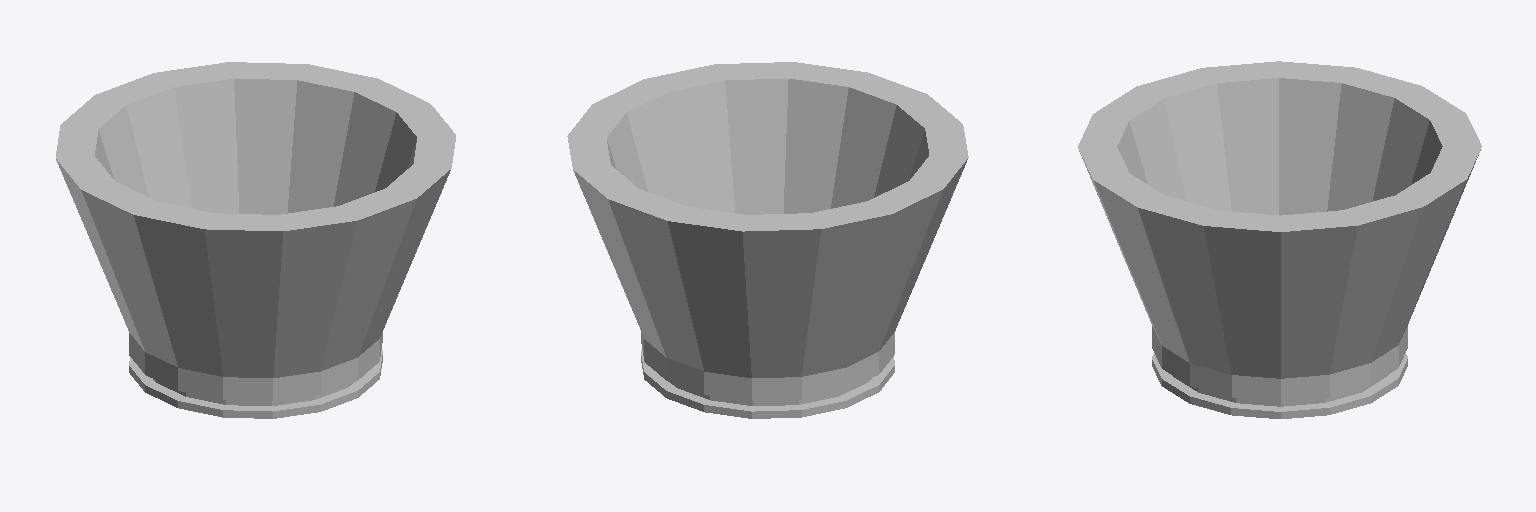
The model's file is bucket.obj.
3 views of the same model, side by side, from view 1: azimuth 30°, elevation 25°; view 2: azimuth 150°, elevation 25°; view 3: azimuth 270°, elevation 25° (orthographic).
Parts seen in each view (by area): view 1: Cylinder; view 2: Cylinder; view 3: Cylinder.
Part boxes in pixels (x1,y1,x2,y2): Cylinder: (56,62,455,418); Cylinder: (567,62,968,418); Cylinder: (1078,61,1481,418).
Size of the model in its own units: 3.16 by 1.88 by 3.16.